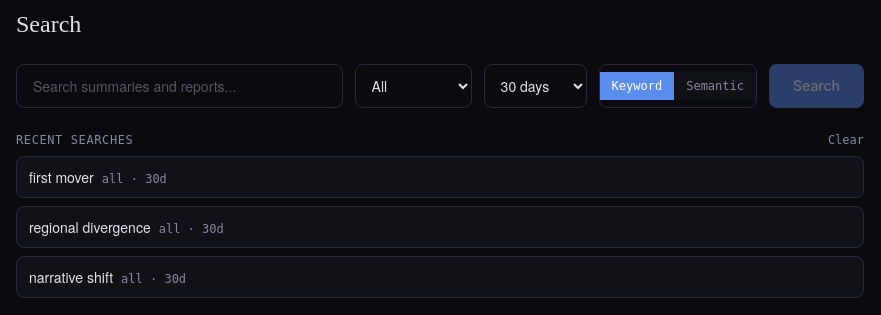
Test case: Search › renders a macro regime chip on report hits when previews include regime history
Type "macro" into the field with placeholder "Search summaries and reports..." at (179, 86), box x1=16 y1=64 x2=343 y2=108
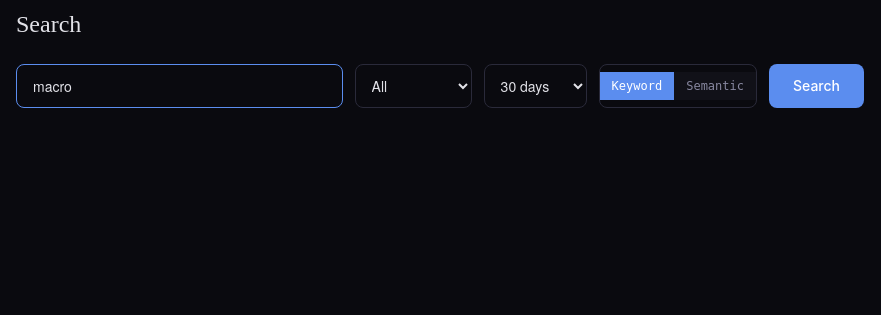
Click the button "Search" at (816, 86), box x1=769 y1=64 x2=864 y2=108
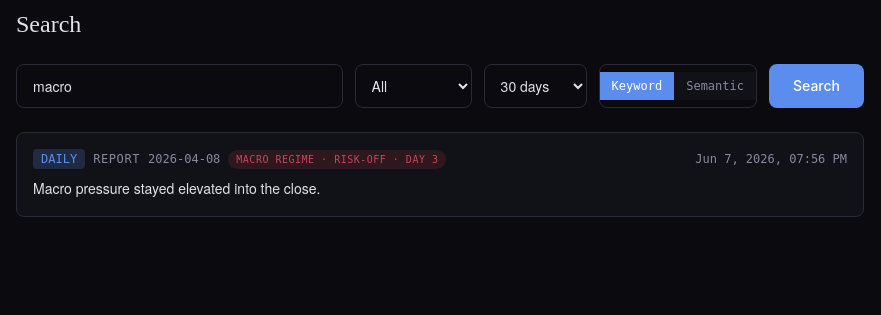
Expected: the text "Macro regime · Risk-off · Day 3" is shown, x1=228 y1=150 x2=446 y2=168
